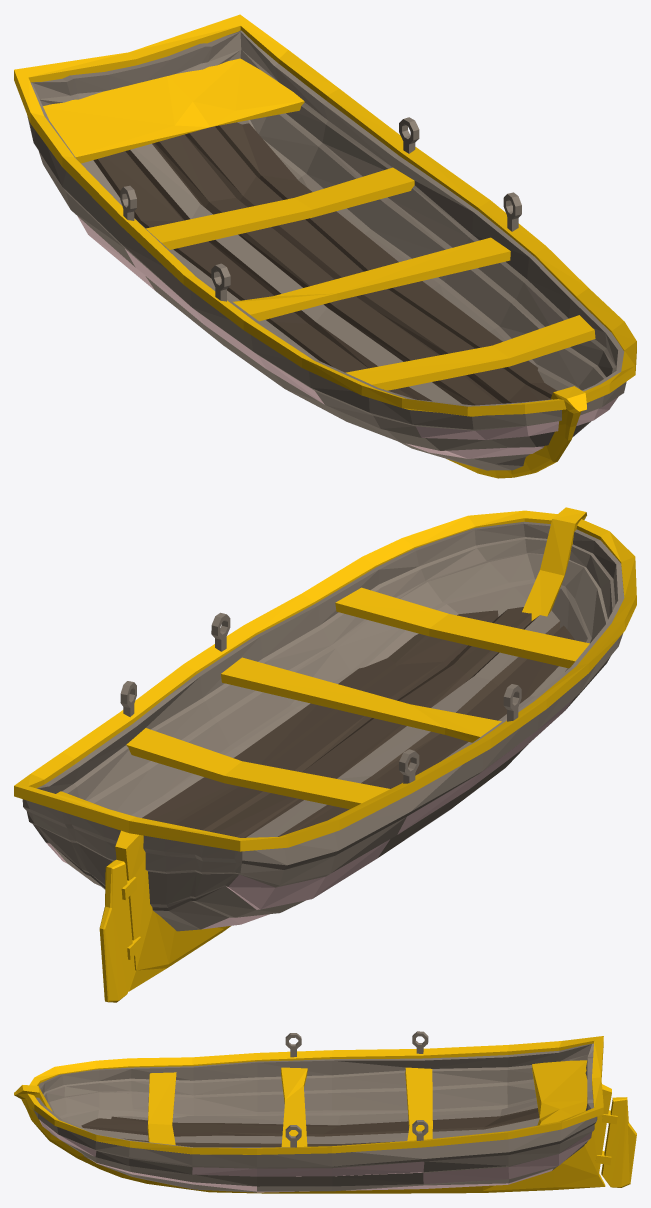
Rendered from SM_Veh_Boat_Rowing_01_Hull.glb.
3 views of the same model, one above another, from view 1: azimuth 30°, elevation 25°; view 2: azimuth 150°, elevation 25°; view 3: azimuth 270°, elevation 25° (orthographic). The views are drawn at different scales.
Parts seen in each view (by area): view 1: SM_Veh_Boat_Rowing_01_Hull_00; view 2: SM_Veh_Boat_Rowing_01_Hull_00; view 3: SM_Veh_Boat_Rowing_01_Hull_00.
Boxes of the visible parts, box(x1,y1,x2,y2) form: SM_Veh_Boat_Rowing_01_Hull_00: box(14, 14, 636, 478); SM_Veh_Boat_Rowing_01_Hull_00: box(14, 507, 636, 1002); SM_Veh_Boat_Rowing_01_Hull_00: box(14, 1031, 636, 1193).
Bounding box in the file's own units: 1.98 × 1.16 × 5.39.
1 material, 1 textured.
